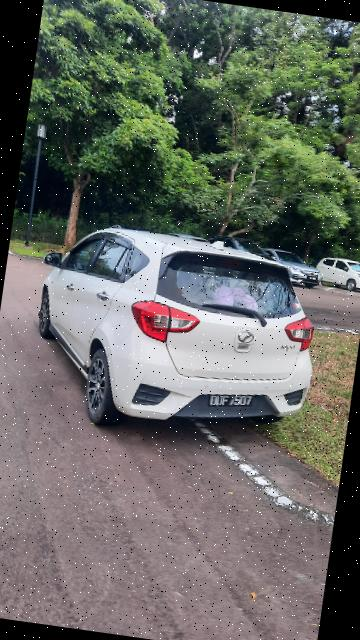License_Plate: (196, 384, 260, 423)
car: (16, 215, 339, 457)
